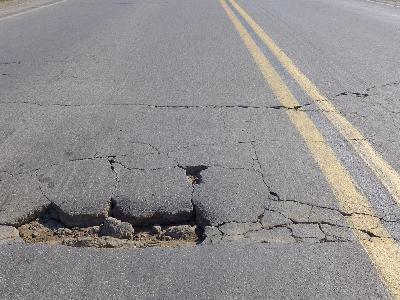pothole: (9, 194, 216, 249), (180, 162, 209, 186)
